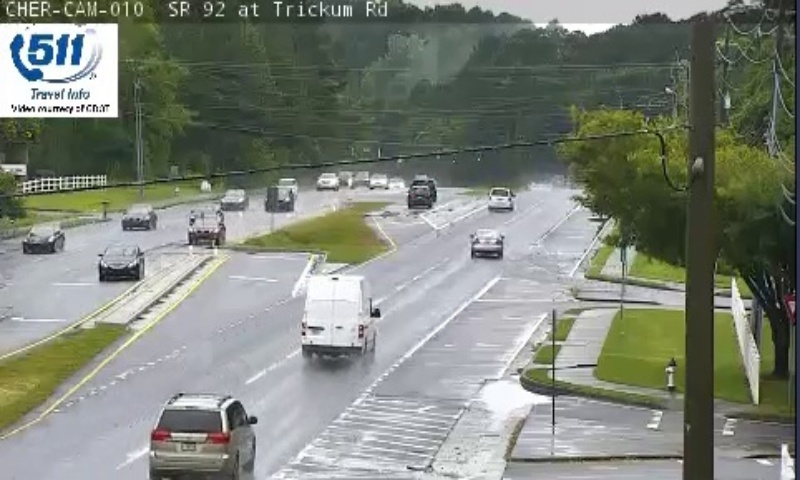car: (149, 395, 257, 478), (471, 229, 502, 256), (487, 187, 512, 209)
van: (302, 272, 373, 355)
